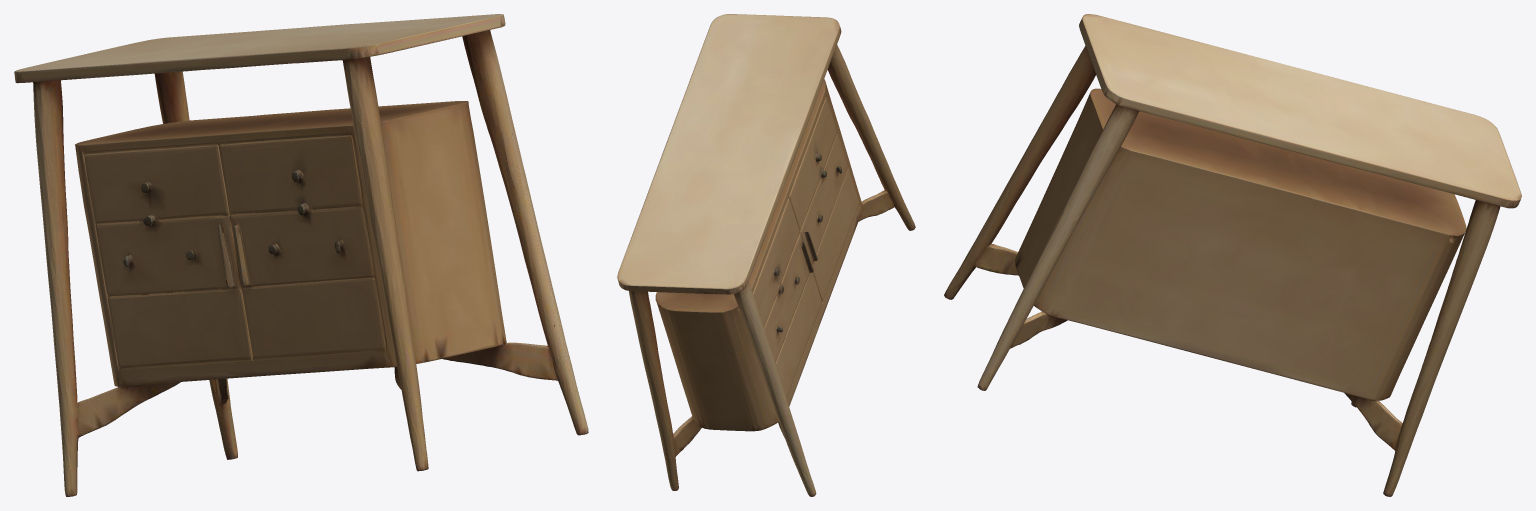
Rendered from light_wood_console_table_000.glb.
3 views of the same model, side by side, from view 1: azimuth 30°, elevation 25°; view 2: azimuth 150°, elevation 25°; view 3: azimuth 270°, elevation 25° (orthographic). The views are drawn at different scales.
Parts seen in each view (by area): view 1: light_wood_console_table_000.obj; view 2: light_wood_console_table_000.obj; view 3: light_wood_console_table_000.obj.
Part boxes in pixels (<box>): light_wood_console_table_000.obj: <box>14,14,588,496</box>; light_wood_console_table_000.obj: <box>617,14,915,496</box>; light_wood_console_table_000.obj: <box>944,14,1521,496</box>.
Size of the model in its own units: 0.3935 by 0.7183 by 0.8153.
1 material, 1 textured.
